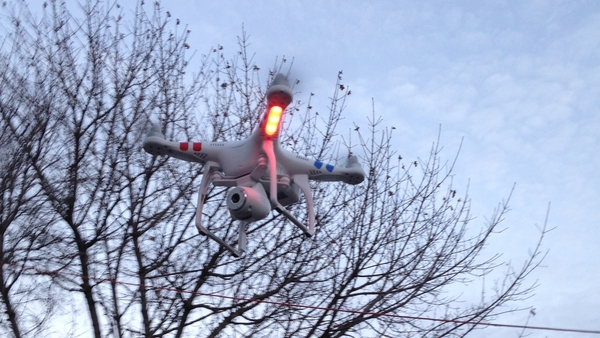drone: (140, 73, 368, 259)
